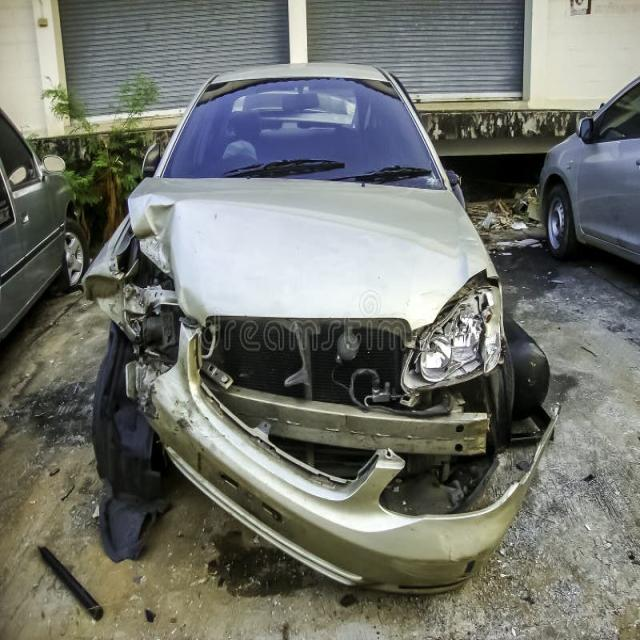crush: (84, 177, 559, 591)
